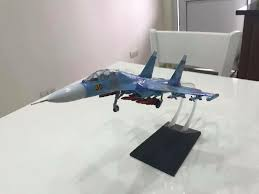maybay_muctieu: (36, 53, 215, 115)
